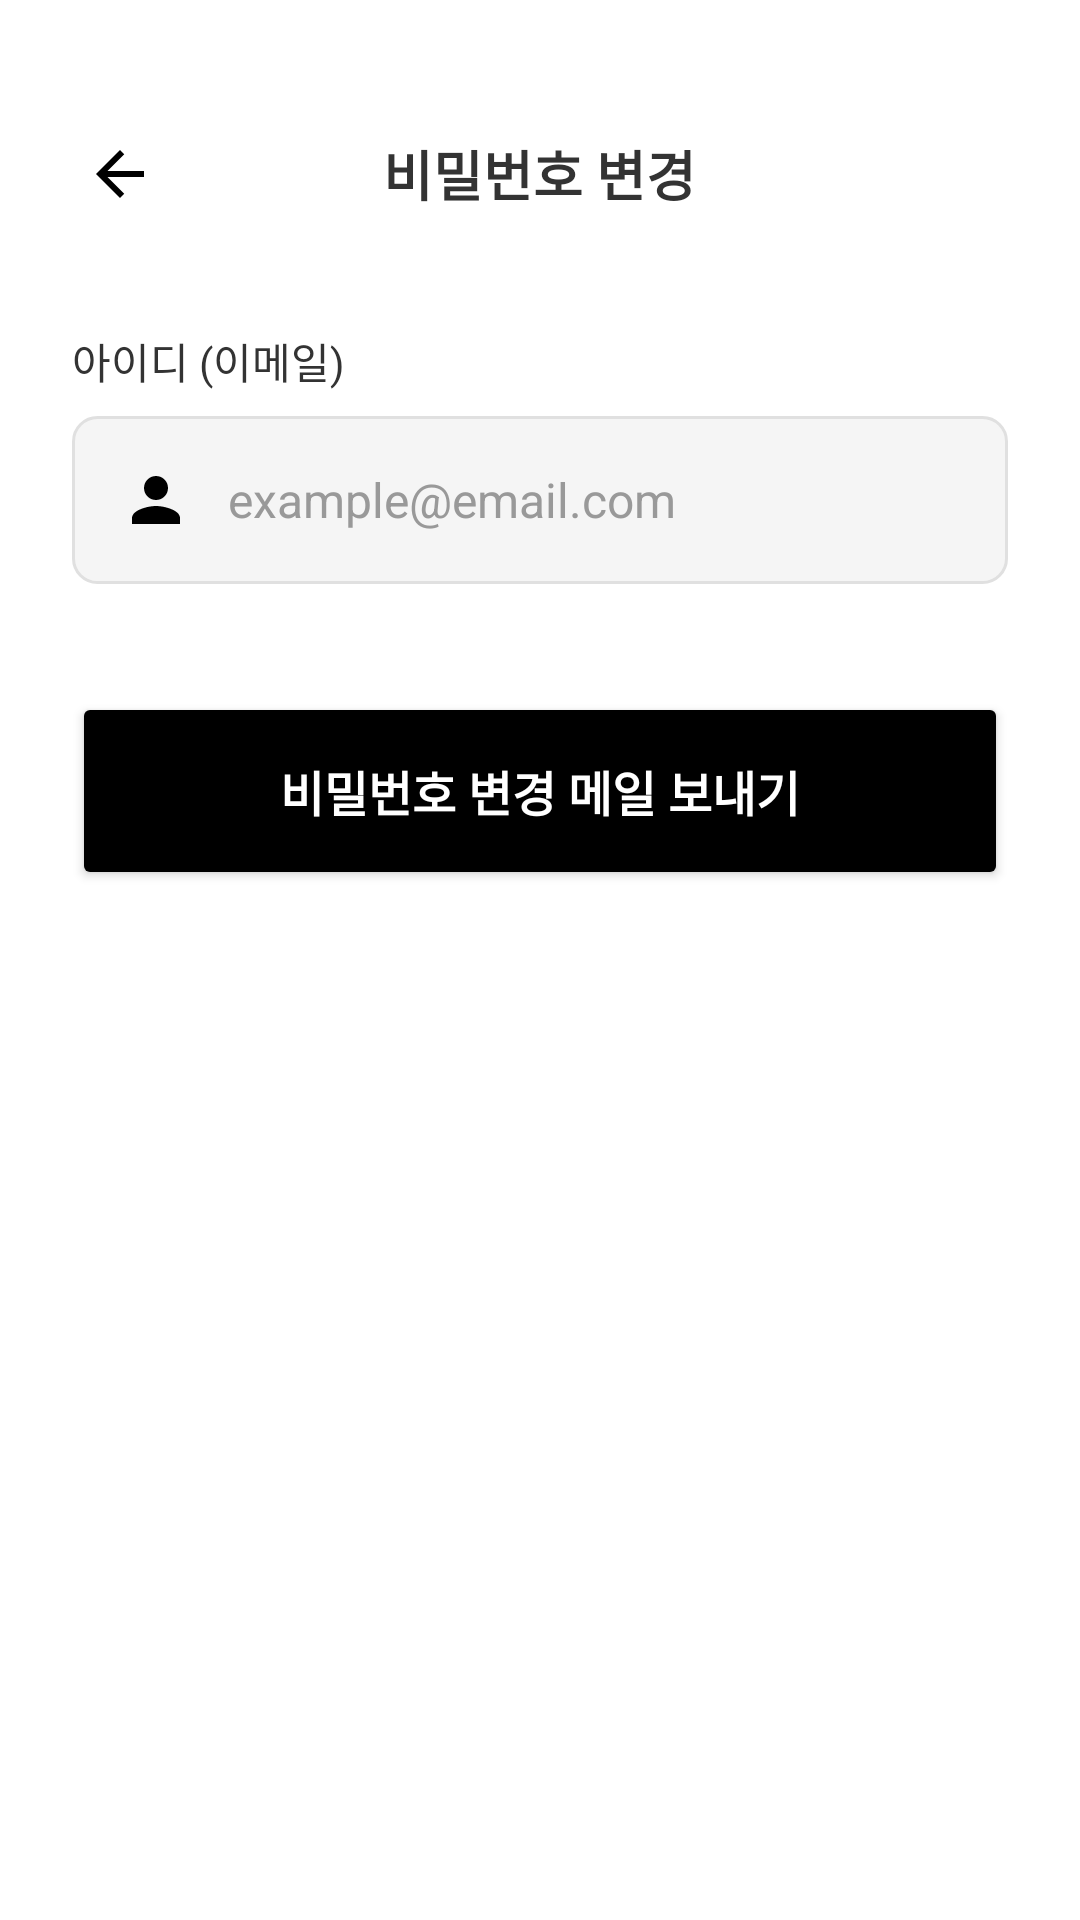

Icon bounding boxes for this 1080 × 1920 phone screenshot, format rect(x1, y1, x2, y2):
arrow back: rect(96, 150, 144, 198)
